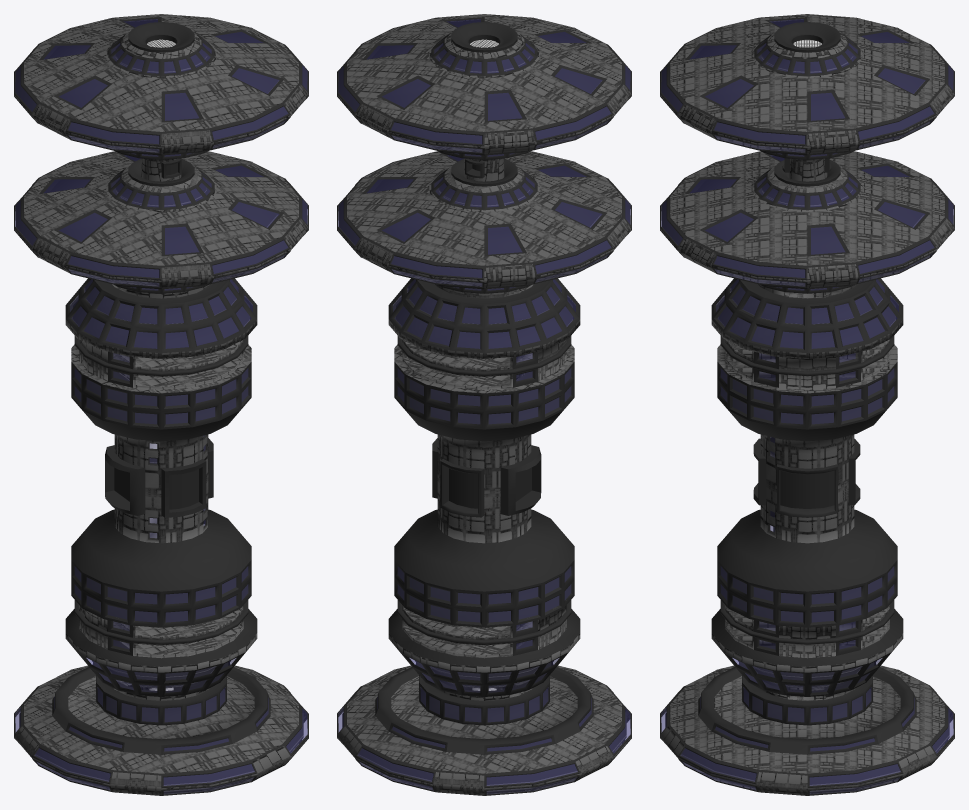
File: Scifi-structure.FBX
3 renders of one model, left to right at view 1: azimuth 30°, elevation 25°; view 2: azimuth 150°, elevation 25°; view 3: azimuth 270°, elevation 25°, orthographic.
Parts seen in each view (by area): view 1: Scifi-structure, Inside-scifi-structure; view 2: Scifi-structure, Inside-scifi-structure; view 3: Scifi-structure, Inside-scifi-structure.
Part boxes in pixels (x1=…): Scifi-structure: x1=14, y1=14, x2=308, y2=795; Inside-scifi-structure: x1=15, y1=20, x2=308, y2=793; Scifi-structure: x1=337, y1=14, x2=631, y2=795; Inside-scifi-structure: x1=338, y1=20, x2=631, y2=793; Scifi-structure: x1=660, y1=14, x2=954, y2=795; Inside-scifi-structure: x1=661, y1=20, x2=954, y2=793.
Bounding box in the file's own units: 73.96 × 72.89 × 201.
